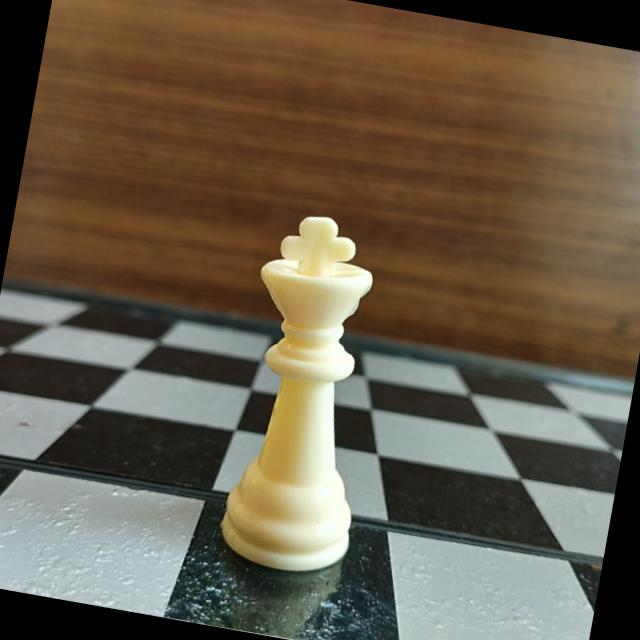White King: (201, 190, 424, 588)
